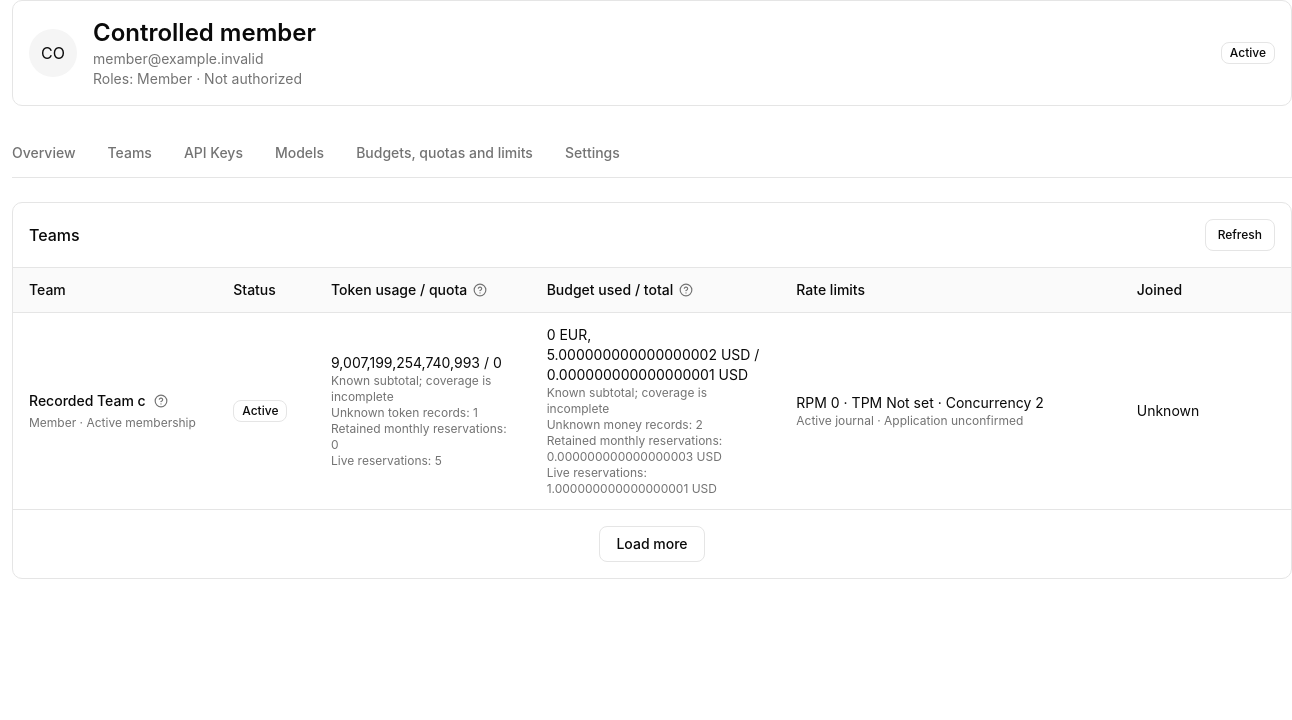
loads bounded next pages and rejects overlapping identities instead of deduplicating
The image size is (1292, 720).
Click the button "Load more" at coordinates (652, 544), box [599, 526, 704, 562]
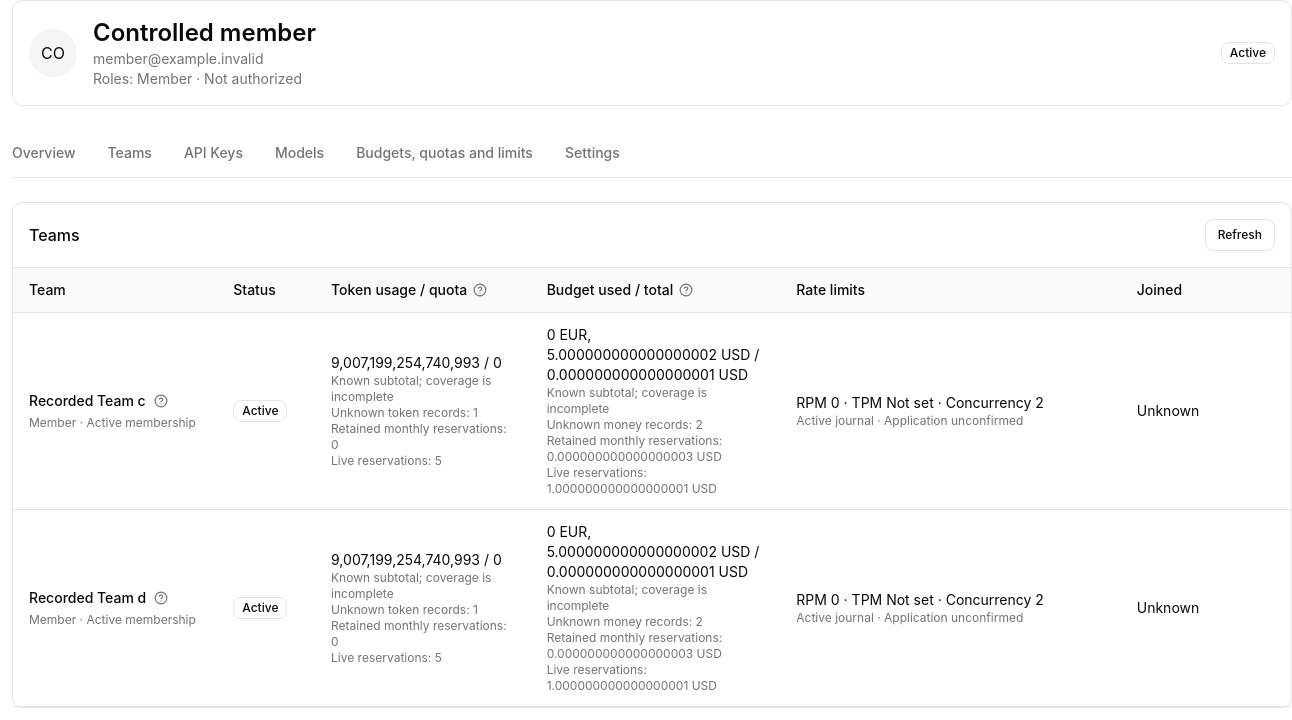
Now the text "Recorded Team d" is shown, box [29, 588, 146, 608]
